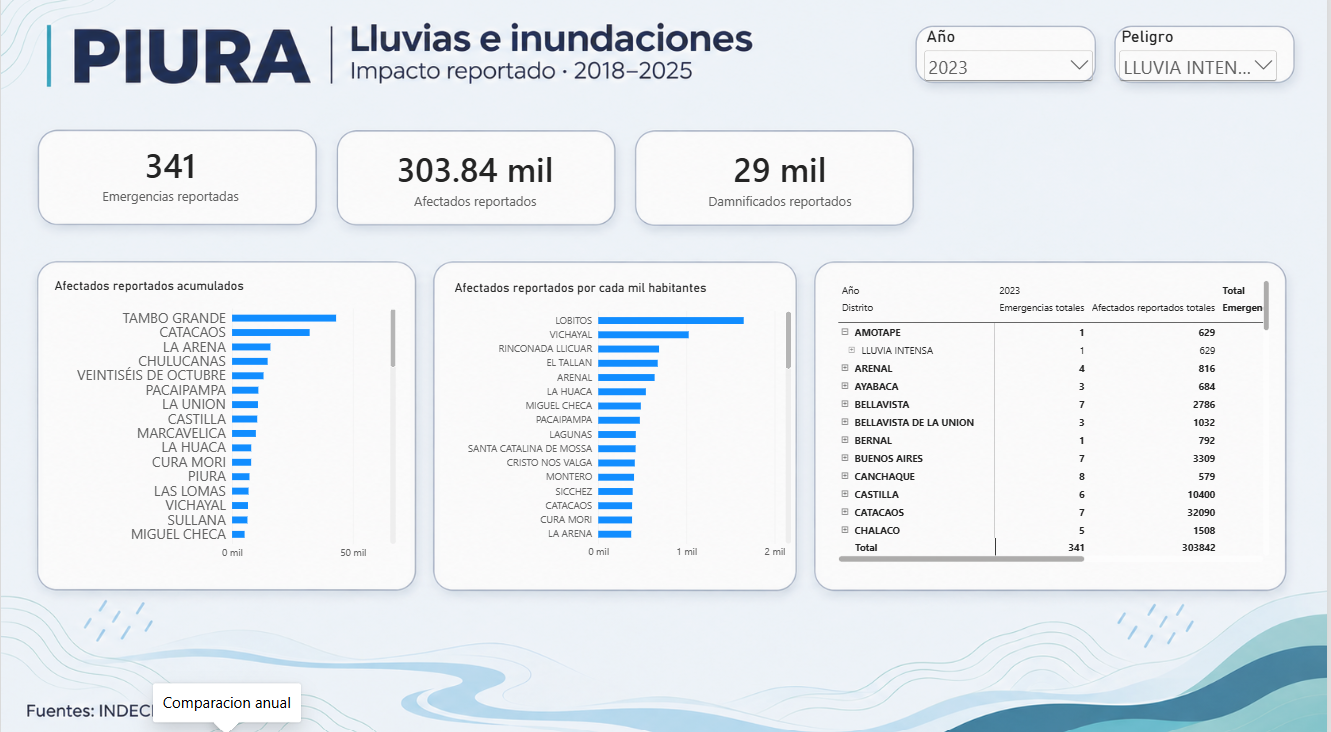

What the dashboard file says about the page in this screenshot:
{"tool":"powerbi","page":{"name":"Comparacion anual","canvas":[1920,1080],"ordinal":0},"visuals":[{"type":"clusteredBarChart","title":"Afectados reportados acumulados","fields":{"Category":["vw_panel_distital.distrito"],"Y":["Sum(vw_panel_distital.afectados_reportados)"]},"box":[62,398,526,442],"z":0},{"type":"slicer","fields":{"Values":["vw_panel_distital.anio"]},"box":[1332,48,254,88],"z":1000},{"type":"clusteredBarChart","title":"Afectados reportados por cada mil habitantes","fields":{"Category":["vw_panel_distital.distrito"],"Y":["vw_panel_distital.AFECTADOS por mil"]},"box":[640.6,401.7,519.4,437.9],"z":2000},{"type":"pivotTable","fields":{"Columns":["vw_panel_distital.anio"],"Rows":["vw_panel_distital.distrito","vw_panel_distital.peligro","vw_panel_distital.poblacion_proyectada","vw_panel_distital.afectados_reportados_por_cada_1000"],"Values":["Sum(vw_panel_distital.emergencias)","Sum(vw_panel_distital.afectados_reportados)"]},"box":[1196,402,656,438],"z":3000},{"type":"cardVisual","fields":{"Data":["vw_panel_distrital.Emergencias reportadas"]},"box":[102,194,288,136],"z":4000},{"type":"cardVisual","fields":{"Data":["vw_panel_distrital.Damnificados reportados"]},"box":[1000,212,254,112],"z":5000},{"type":"cardVisual","fields":{"Data":["vw_panel_distrital.Afectados reportados"]},"box":[538,212,298,112],"z":6000},{"type":"slicer","fields":{"Values":["vw_panel_distital.peligro"]},"box":[1614,48,238,88],"z":7000}]}

Visuals, with their boxes in screenshot pixels (x1, y1, x2, y2), scaled from the page's 1920x1080 canvas onto the 1331x732 screenshot:
"Afectados reportados acumulados" clusteredBarChart: pyautogui.locateOnScreen(43, 270, 408, 569)
slicer - vw_panel_distital.anio: pyautogui.locateOnScreen(923, 33, 1099, 92)
"Afectados reportados por cada mil habitantes" clusteredBarChart: pyautogui.locateOnScreen(444, 272, 804, 569)
pivotTable - vw_panel_distital.anio x vw_panel_distital.distrito: pyautogui.locateOnScreen(829, 272, 1284, 569)
cardVisual - vw_panel_distrital.Emergencias reportadas: pyautogui.locateOnScreen(71, 131, 270, 224)
cardVisual - vw_panel_distrital.Damnificados reportados: pyautogui.locateOnScreen(693, 144, 869, 220)
cardVisual - vw_panel_distrital.Afectados reportados: pyautogui.locateOnScreen(373, 144, 580, 220)
slicer - vw_panel_distital.peligro: pyautogui.locateOnScreen(1119, 33, 1284, 92)
